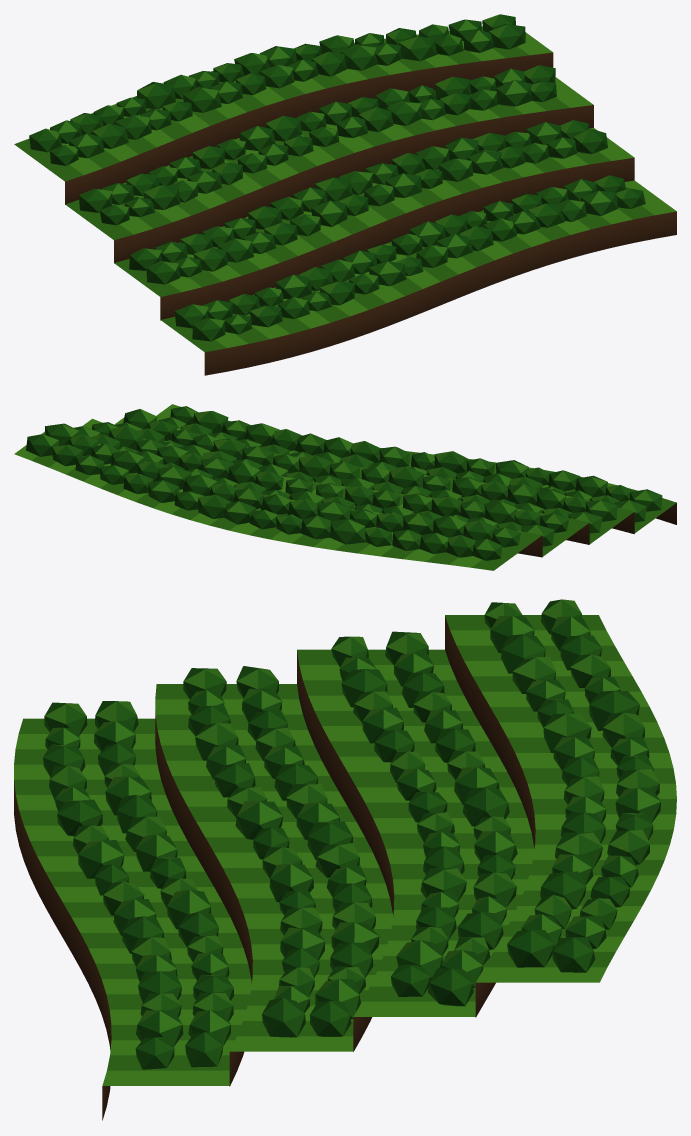
File: ENV_TeaTerrace.fbx
The picture shows the model from 3 angles, top to bottom: view 1: azimuth 30°, elevation 25°; view 2: azimuth 150°, elevation 25°; view 3: azimuth 270°, elevation 25°; orthographic projection. The views are drawn at different scales.
Visible parts, largest first — view 1: ENV_TeaTerrace_Bushes, ENV_TeaTerrace_Ground; view 2: ENV_TeaTerrace_Bushes, ENV_TeaTerrace_Ground; view 3: ENV_TeaTerrace_Bushes, ENV_TeaTerrace_Ground.
Boxes of the visible parts, box(x1,y1,x2,y2) form: ENV_TeaTerrace_Bushes: box(29, 14, 645, 341); ENV_TeaTerrace_Ground: box(14, 26, 676, 375); ENV_TeaTerrace_Bushes: box(26, 406, 662, 560); ENV_TeaTerrace_Ground: box(14, 404, 676, 570); ENV_TeaTerrace_Bushes: box(43, 599, 660, 1069); ENV_TeaTerrace_Ground: box(14, 615, 676, 1120).
Bounding box in the file's own units: 16 × 3.49 × 12.2.
